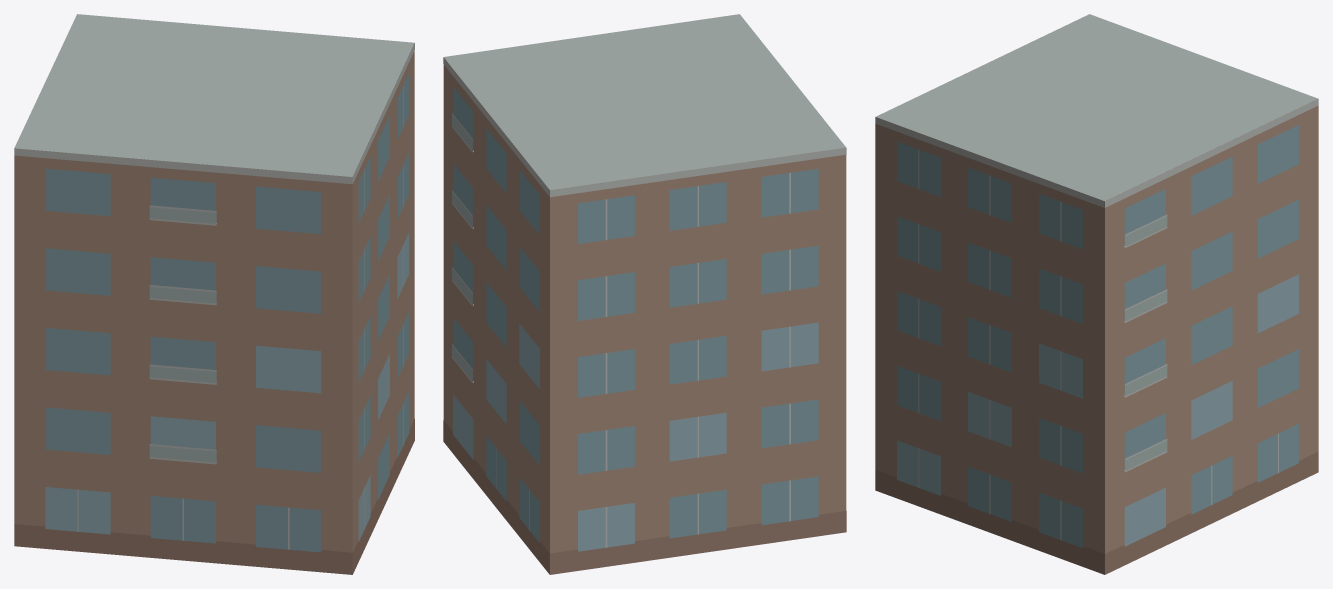
Rendered from survey-upis-32881963.glb.
3 views of the same model, side by side, from view 1: azimuth 30°, elevation 25°; view 2: azimuth 150°, elevation 25°; view 3: azimuth 270°, elevation 25° (orthographic). The views are drawn at different scales.
Parts seen in each view (by area): view 1: survey-upis-32881963.tmp; view 2: survey-upis-32881963.tmp; view 3: survey-upis-32881963.tmp.
Boxes of the visible parts, box(x1,y1,x2,y2) form: survey-upis-32881963.tmp: box(14, 14, 414, 574); survey-upis-32881963.tmp: box(443, 14, 846, 574); survey-upis-32881963.tmp: box(875, 14, 1318, 574).
Size of the model in its own units: 14.52 by 13.5 by 14.52.
